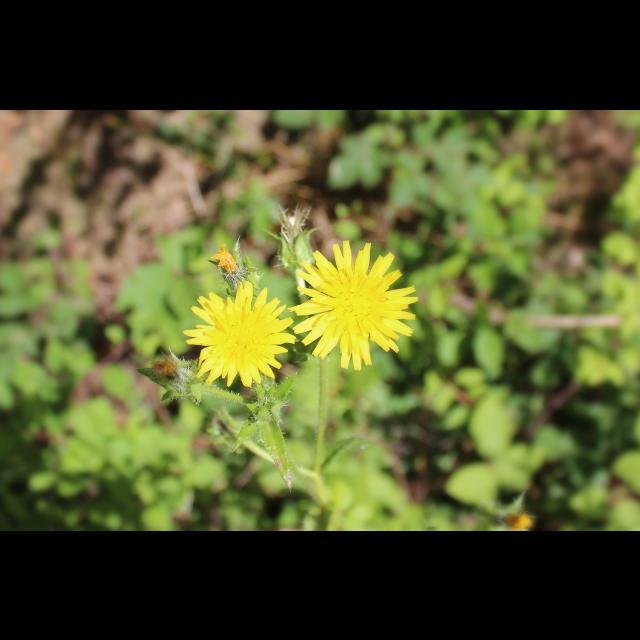Flower: (290, 242, 420, 371), (184, 280, 296, 386)
